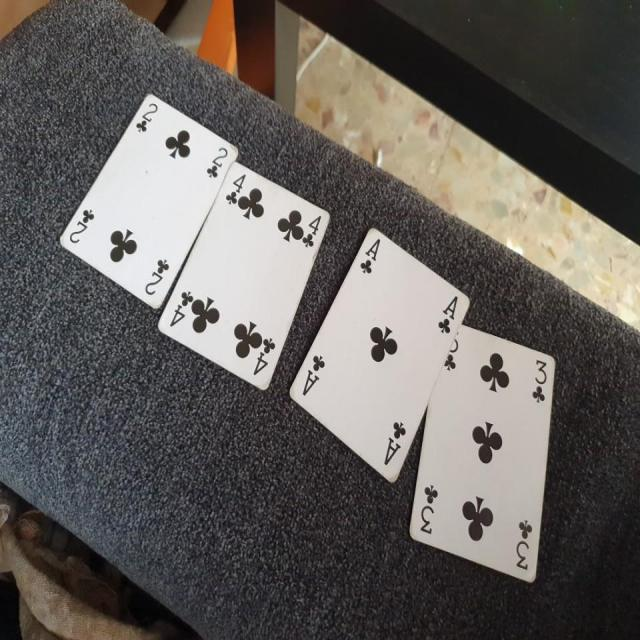2 Trefoils: (56, 93, 237, 311)
3 Trefoils: (407, 323, 554, 585)
4 Trefoils: (158, 157, 330, 392)
A Trefoils: (286, 226, 471, 485)
